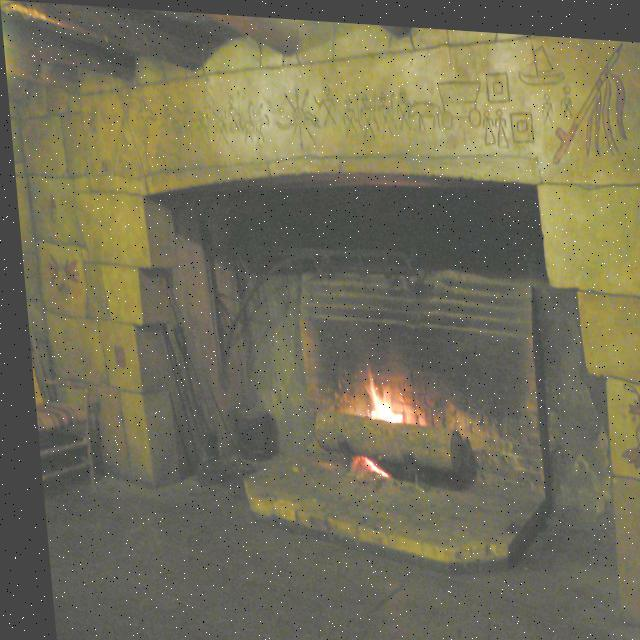Fire: (344, 356, 410, 418)
